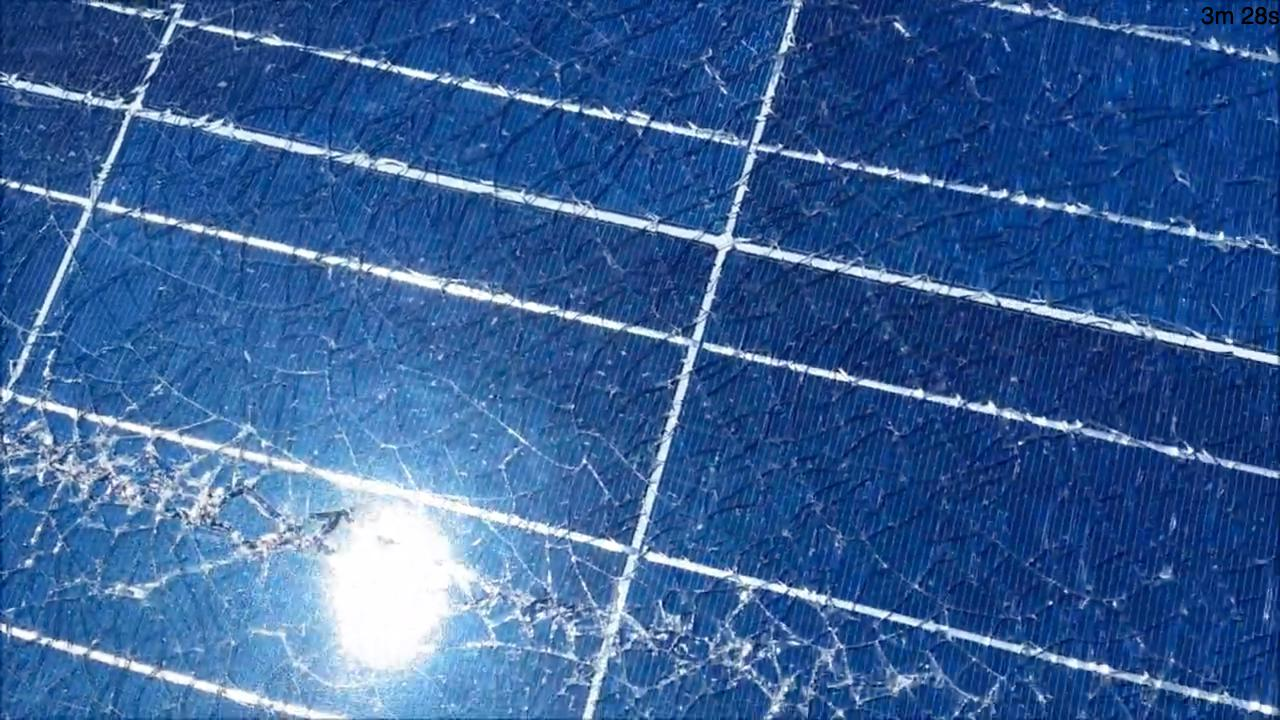Crack: (540, 539, 1018, 716), (12, 400, 271, 632)
